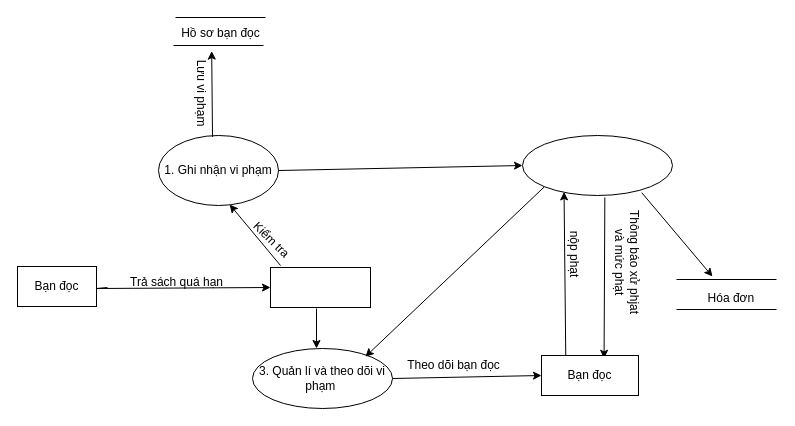
This 795x426 diagram has some shape labels left out. The centre of each missing label's shape, as x and y in pixels:
2. Tính toán và xử phạt: point (597, 165)
Thủ thư: point (320, 287)
